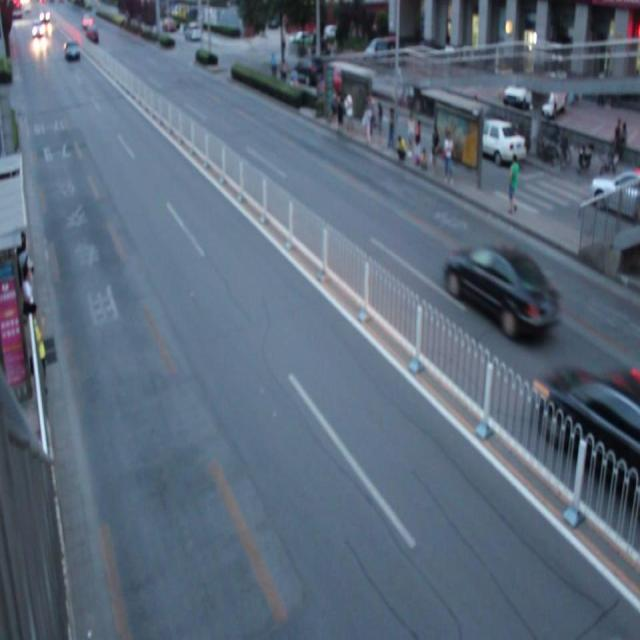car: (530, 360, 640, 497), (444, 238, 560, 342)
